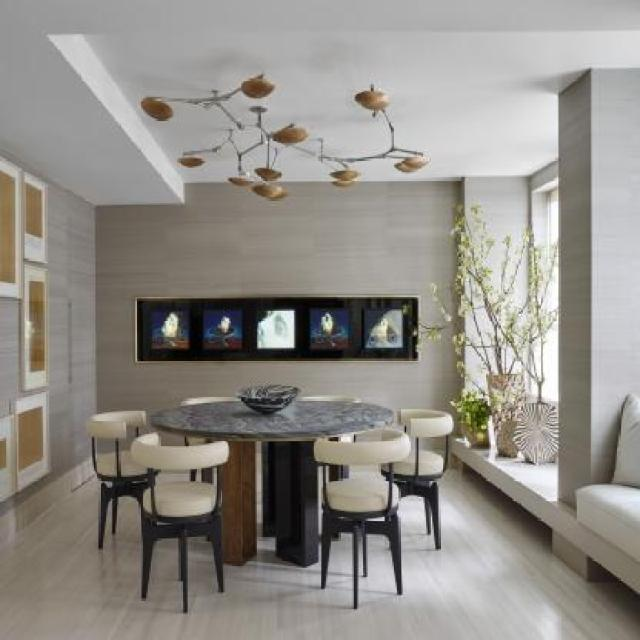floor: (2, 459, 640, 640)
